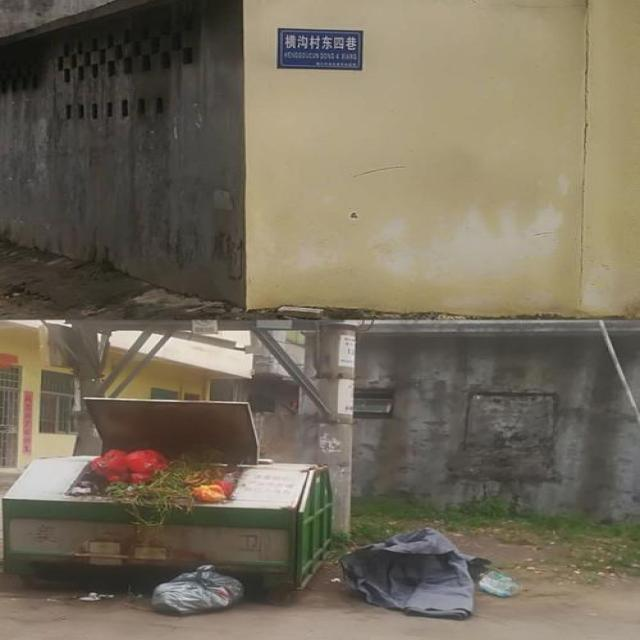garbage: (342, 527, 514, 619), (146, 563, 239, 613)
overflow: (3, 456, 329, 602)
